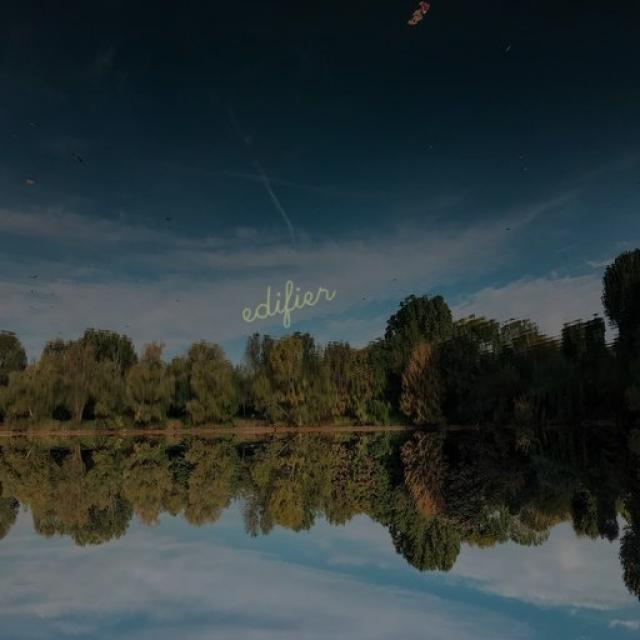watermark: (235, 266, 336, 328)
